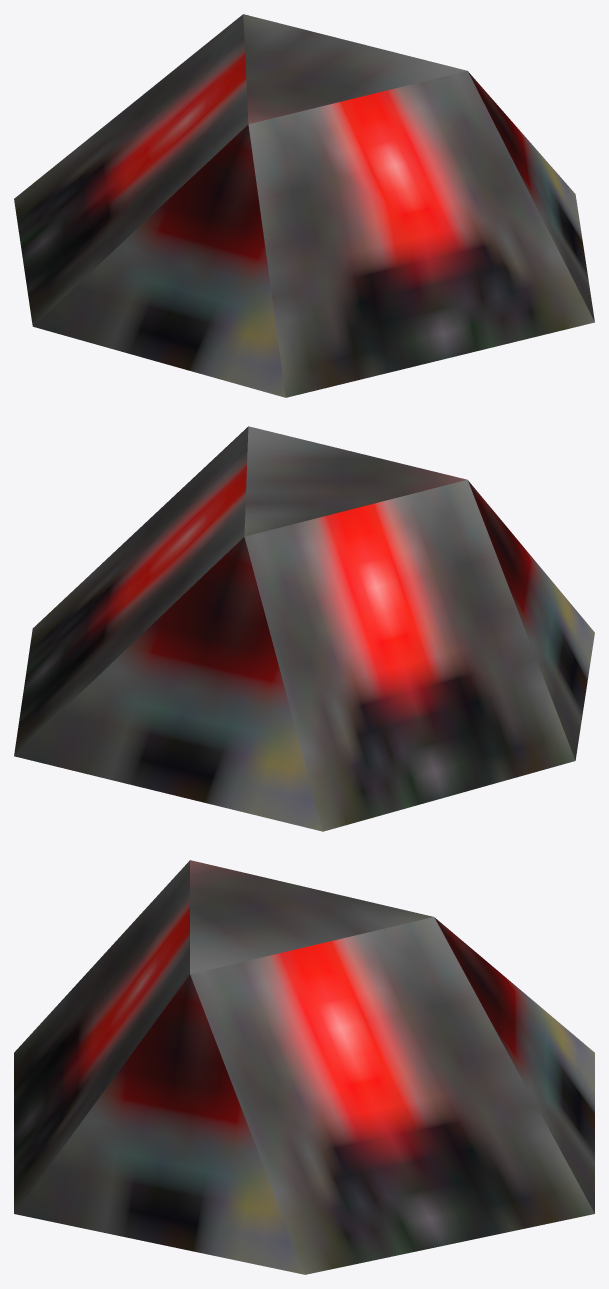
3 views of the same model, one above another, from view 1: azimuth 30°, elevation 25°; view 2: azimuth 150°, elevation 25°; view 3: azimuth 270°, elevation 25° (orthographic). The views are drawn at different scales.
Visible parts, largest first — view 1: root; view 2: root; view 3: root.
Boxes of the visible parts, x1,y1,x2,y2 form: root: (14,14,594,397); root: (14,426,594,831); root: (14,860,594,1274).
Size of the model in its own units: 0.9434 by 0.3359 by 0.8184.
1 material, 1 textured.
